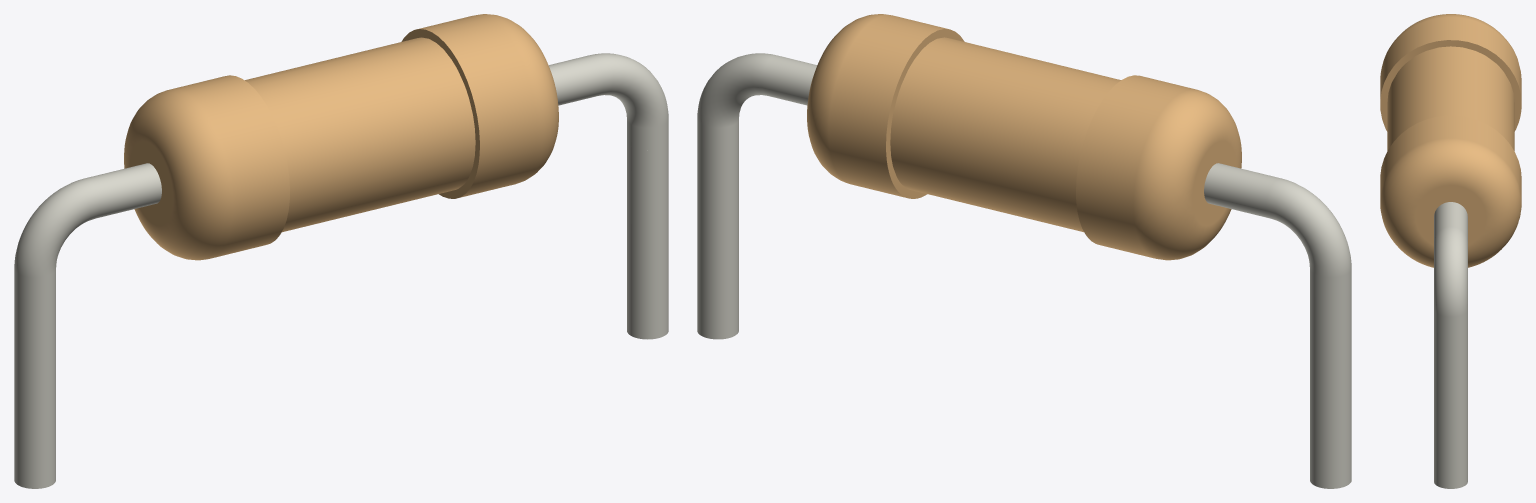
Rendered from r_axial_din0207_l6_3mm_d2_5mm_p10_16mm_horizontal.glb.
The picture shows the model from 3 angles, left to right: view 1: azimuth 30°, elevation 25°; view 2: azimuth 150°, elevation 25°; view 3: azimuth 270°, elevation 25°; orthographic projection. The views are drawn at different scales.
Visible parts, largest first — view 1: resistor, pin_1, pin_2; view 2: resistor, pin_1, pin_2; view 3: resistor, pin_2.
Part boxes in pixels (<box>): resistor: <box>14,14,668,299</box>; pin_1: <box>14,292,55,488</box>; pin_2: <box>627,143,668,339</box>; resistor: <box>697,14,1351,299</box>; pin_1: <box>1310,292,1351,488</box>; pin_2: <box>697,142,738,339</box>; resistor: <box>1380,14,1521,334</box>; pin_2: <box>1434,329,1467,488</box>.
Size of the model in its own units: 0.0108 by 0.0055 by 0.0025.
